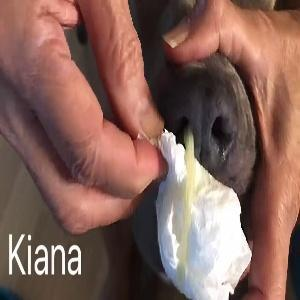nasal_discharge: (166, 121, 203, 288)
